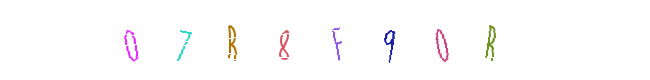0: (91, 0, 171, 80)
7: (144, 0, 224, 80)
8: (299, 0, 379, 80)
9: (323, 0, 403, 80)
F: (308, 0, 388, 80)
O: (325, 0, 405, 80)
R: (285, 0, 365, 80), (350, 0, 430, 80)
